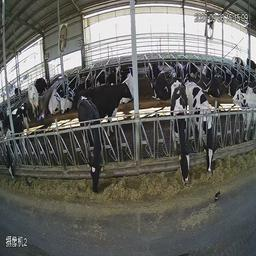cow: (75, 94, 107, 199), (168, 72, 193, 194), (189, 78, 217, 180), (83, 73, 134, 123), (1, 108, 29, 187), (229, 78, 255, 139), (150, 62, 172, 103), (202, 59, 223, 101), (25, 76, 46, 118), (48, 79, 63, 116), (230, 50, 247, 77), (60, 79, 71, 115)
